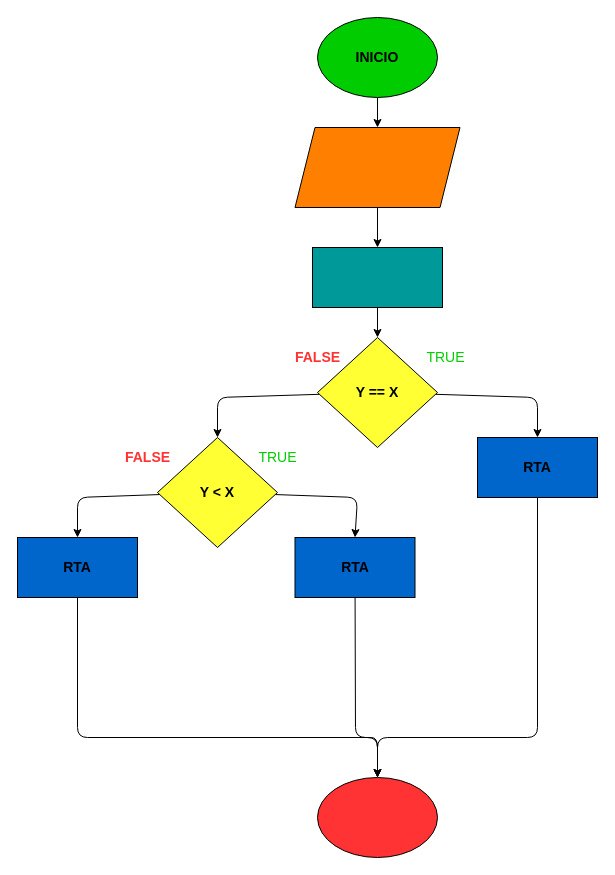
Image size: 615x875. Some labels were removed from this diagram. The shapes that lost their labels are listed below. From the top down, each one's centre as x and y in pixels, then its label:
point 377,167: Y = INTENTO_USUARIO
point 377,277: X = randint (1 , 10)
point 377,817: FIN
